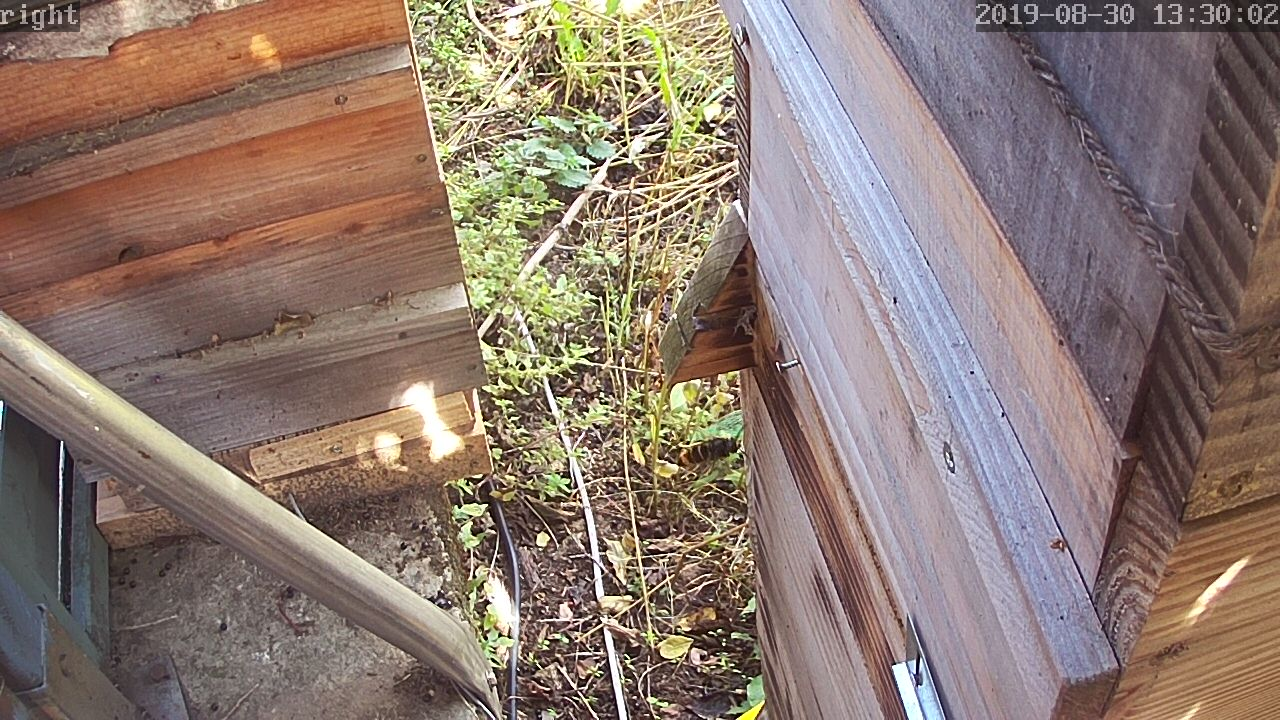hornet: (663, 429, 743, 470)
